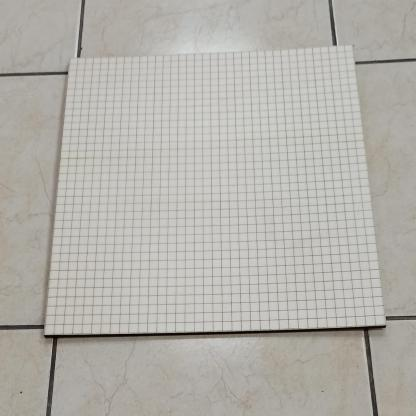grid: (40, 40, 389, 347)
